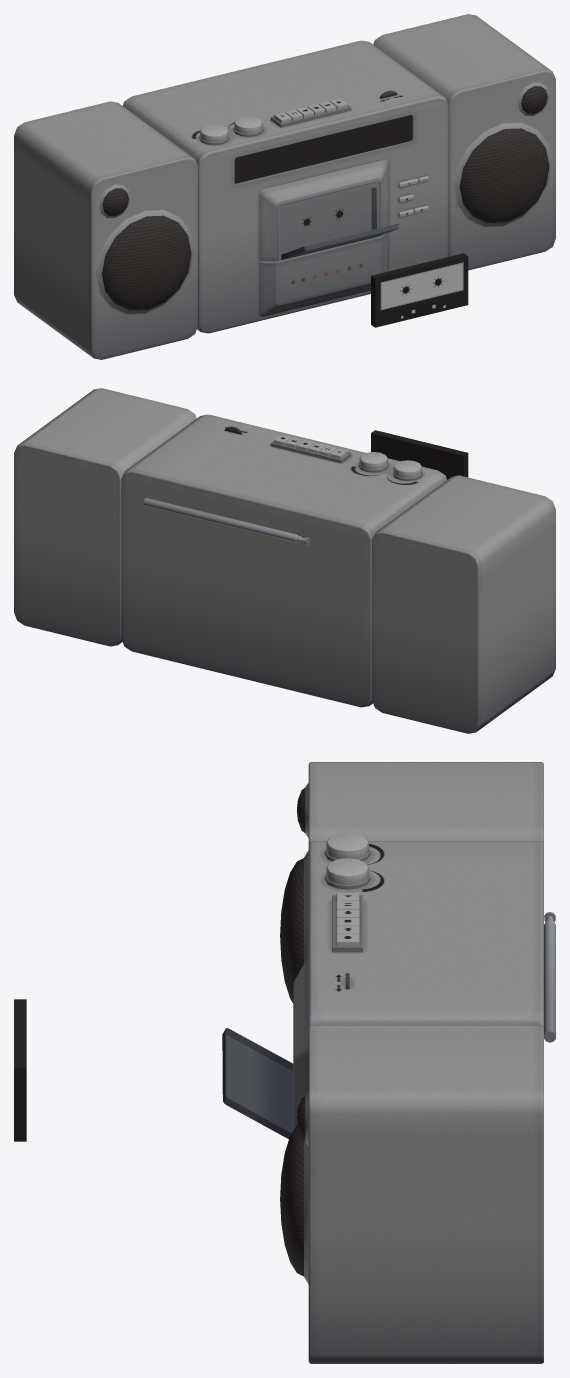
File: radio.fbx
3 views of the same model, one above another, from view 1: azimuth 30°, elevation 25°; view 2: azimuth 150°, elevation 25°; view 3: azimuth 270°, elevation 25° (orthographic). The views are drawn at different scales.
Visible parts, largest first — view 1: base (×3), speaker_big (×2), plug_area, cassette_cover, cassette, speaker_small (×2), cassette_frame, button2, button1; view 2: base (×3), cassette, antenna01, button2, button1; view 3: base (×3), cassette_frame, speaker_big (×2), cassette_cover, cassette, antenna01, button2, button1.
Part boxes in pixels (<box>): base (×3): <box>14,14,555,359</box>; speaker_big (×2): <box>102,128,549,310</box>; plug_area: <box>259,232,388,316</box>; cassette_cover: <box>259,159,388,261</box>; cassette: <box>371,253,468,327</box>; speaker_small (×2): <box>102,86,547,215</box>; cassette_frame: <box>281,223,398,259</box>; button2: <box>234,116,262,133</box>; button1: <box>200,124,228,142</box>; base (×3): <box>14,388,555,733</box>; cassette: <box>371,430,468,479</box>; antenna01: <box>143,498,298,542</box>; button2: <box>359,452,387,469</box>; button1: <box>393,460,421,478</box>; base (×3): <box>304,762,543,1363</box>; cassette_frame: <box>222,1028,293,1139</box>; speaker_big (×2): <box>280,858,303,1276</box>; cassette_cover: <box>293,956,308,1130</box>; cassette: <box>14,999,26,1141</box>; antenna01: <box>544,920,555,1042</box>; button2: <box>326,858,368,885</box>; button1: <box>326,833,368,858</box>.
Size of the model in its own units: 130 by 50.84 by 86.95.
